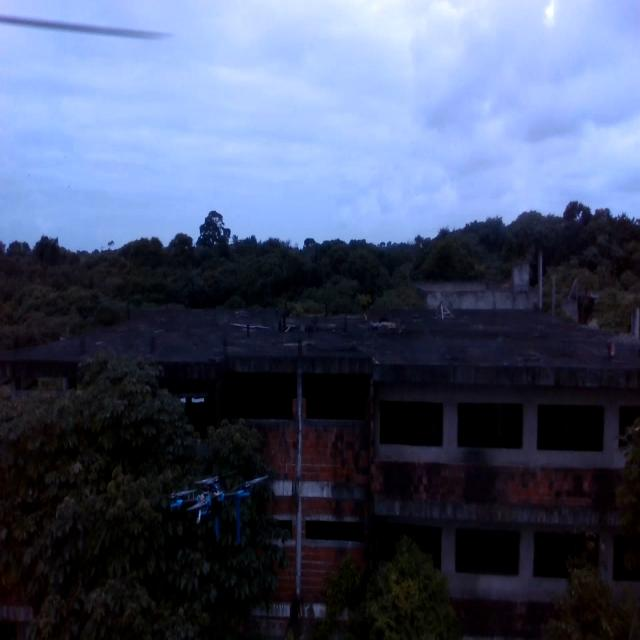-uav-: (164, 456, 274, 557)
